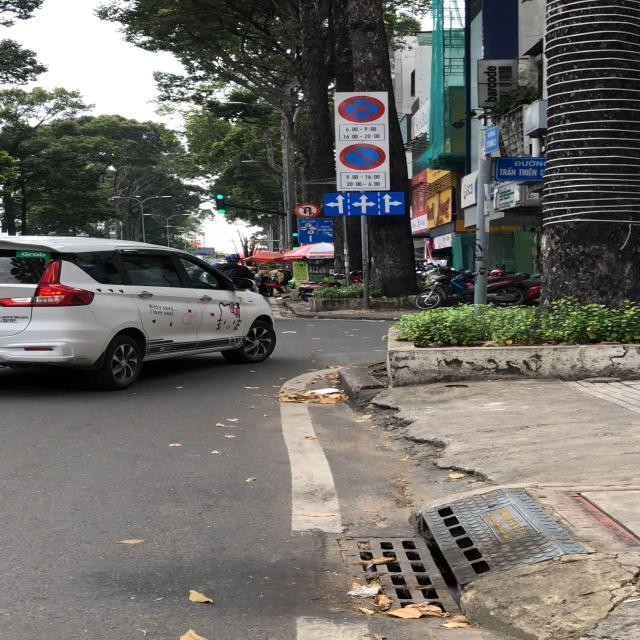Bien bao cam do xe: (338, 142, 387, 172)
Bien bao cam dung xe va do xe: (334, 94, 389, 124)
Bien bao cam quay dau xe: (293, 202, 323, 219)
